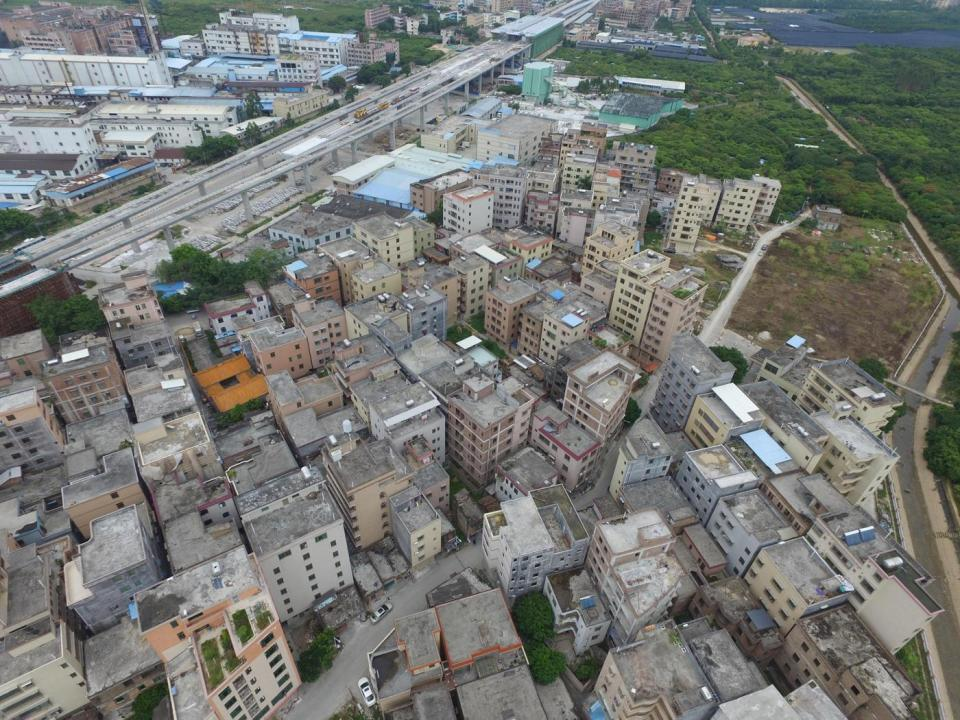car: (358, 675, 376, 707), (369, 601, 392, 625), (177, 334, 187, 343), (761, 243, 769, 250), (758, 250, 764, 256), (177, 162, 183, 167), (156, 162, 161, 167), (167, 162, 172, 167), (161, 162, 167, 166), (172, 162, 178, 166)
truck: (192, 322, 204, 336), (459, 141, 471, 148), (494, 92, 506, 98), (581, 94, 592, 100), (591, 93, 597, 101), (601, 93, 606, 100), (606, 93, 610, 100)
van: (457, 145, 464, 151)
